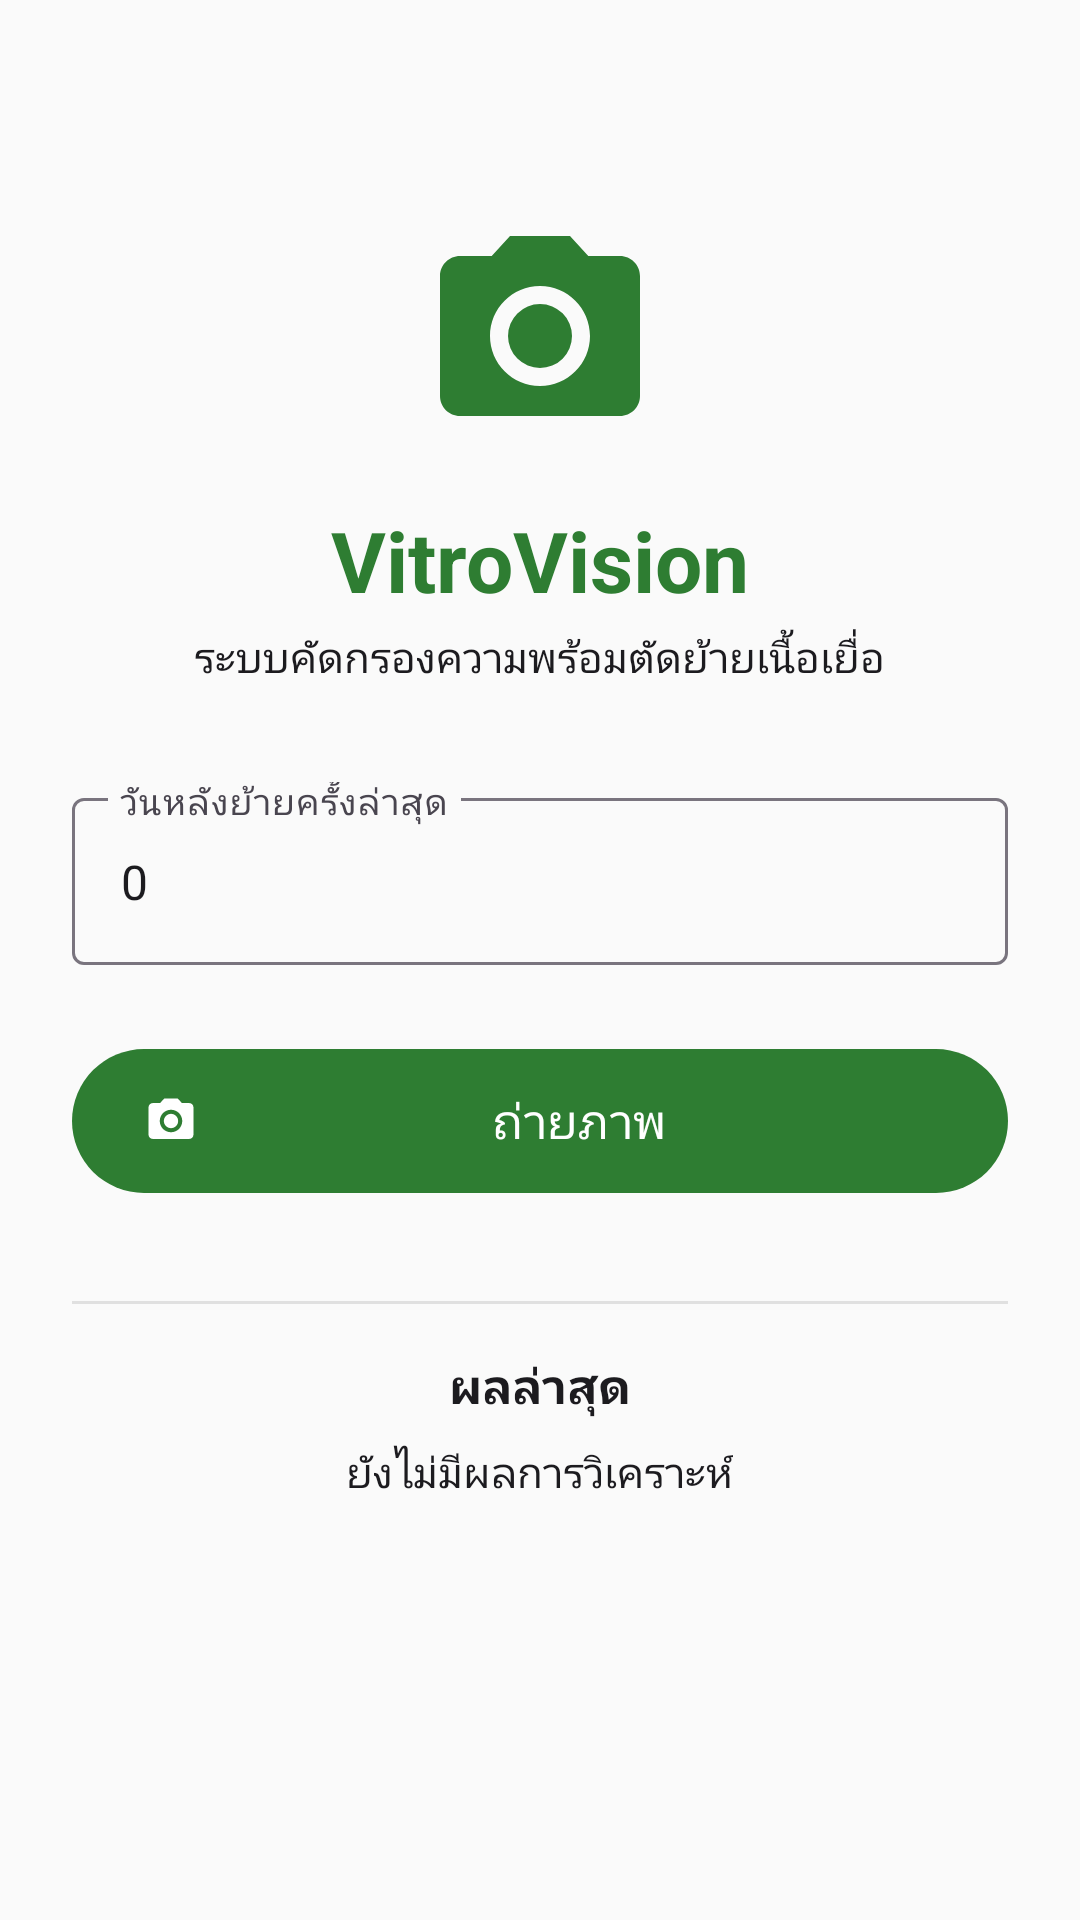

Icon click points for this 1080×1920 phone screenshot, format (x,y):
camera: (540,326)
